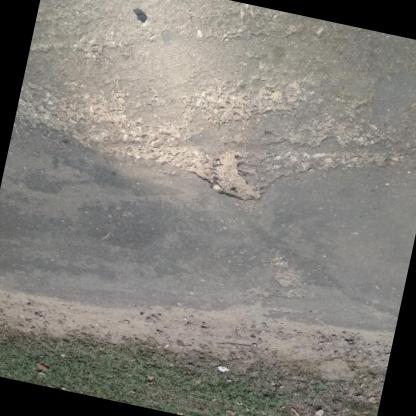pothole: (203, 144, 272, 206)
